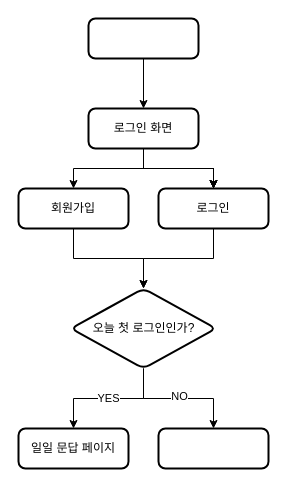
Some shapes in this 286 by 486 pixel diagram are drawn without their labels. Each missing label, with the centre of its shape:
"메인화면" belongs at pixel 213 448.
"메인화면(비로그인)" belongs at pixel 143 38.
